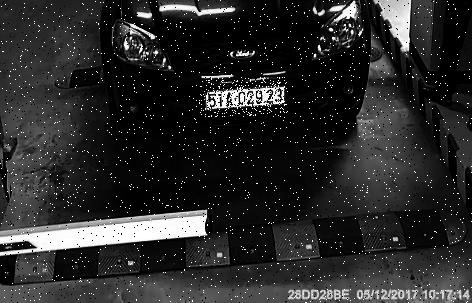License-plate: (200, 78, 289, 118)
